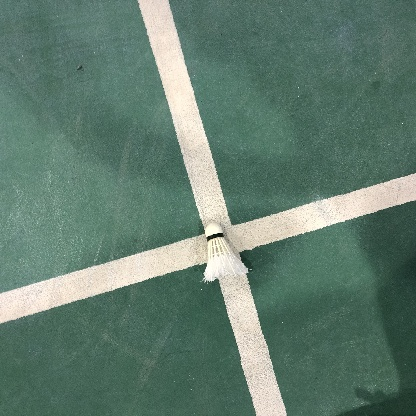ball_single: (204, 223, 248, 282)
